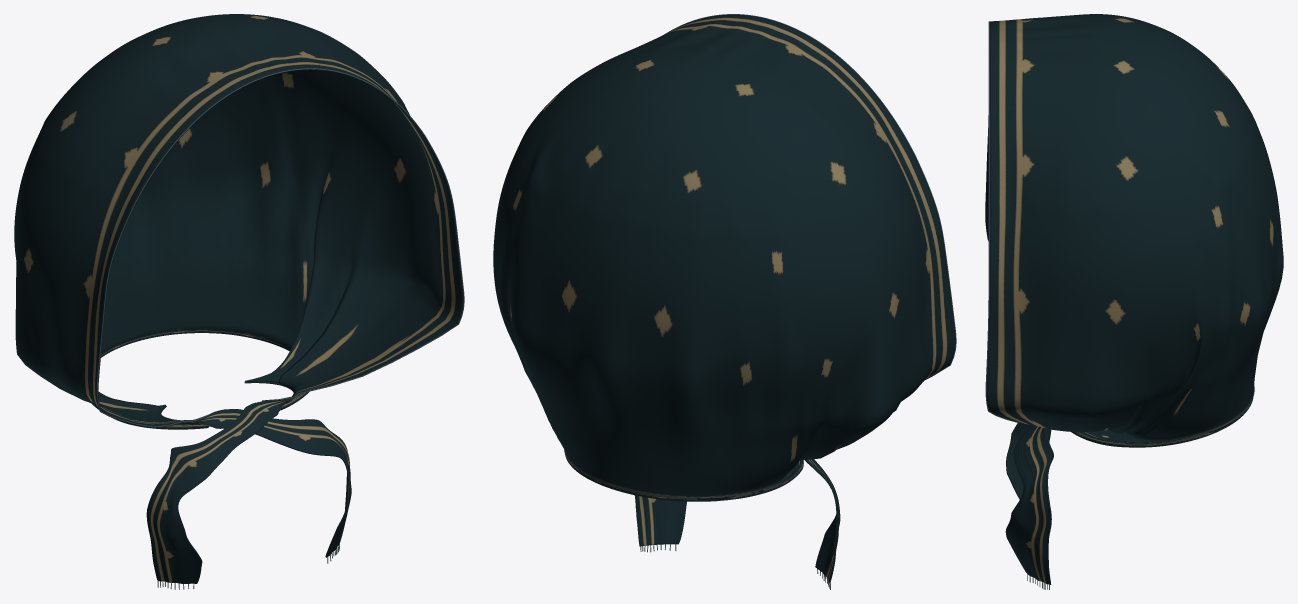
File: Feminine-triangle-long-pashmina248-headgear.glb
3 views of the same model, side by side, from view 1: azimuth 30°, elevation 25°; view 2: azimuth 150°, elevation 25°; view 3: azimuth 270°, elevation 25° (orthographic). The views are drawn at different scales.
Parts seen in each view (by area): view 1: 226 headgear / Headwear / continuous woven pashmina239, 226 headgear / Headwear / face edge239; view 2: 226 headgear / Headwear / continuous woven pashmina239, 226 headgear / Headwear / face edge239; view 3: 226 headgear / Headwear / continuous woven pashmina239, 226 headgear / Headwear / face edge239.
Boxes of the visible parts, left/top/right/bottom form: 226 headgear / Headwear / continuous woven pashmina239: left=14, top=14, right=463, bottom=583; 226 headgear / Headwear / face edge239: left=96, top=68, right=464, bottom=427; 226 headgear / Headwear / continuous woven pashmina239: left=493, top=14, right=955, bottom=583; 226 headgear / Headwear / face edge239: left=664, top=14, right=956, bottom=379; 226 headgear / Headwear / continuous woven pashmina239: left=985, top=14, right=1283, bottom=584; 226 headgear / Headwear / face edge239: left=985, top=21, right=1028, bottom=424.
Bounding box in the file's own units: 1.02 × 1.35 × 0.7112.
Materials: 3 (1 with a texture image).
